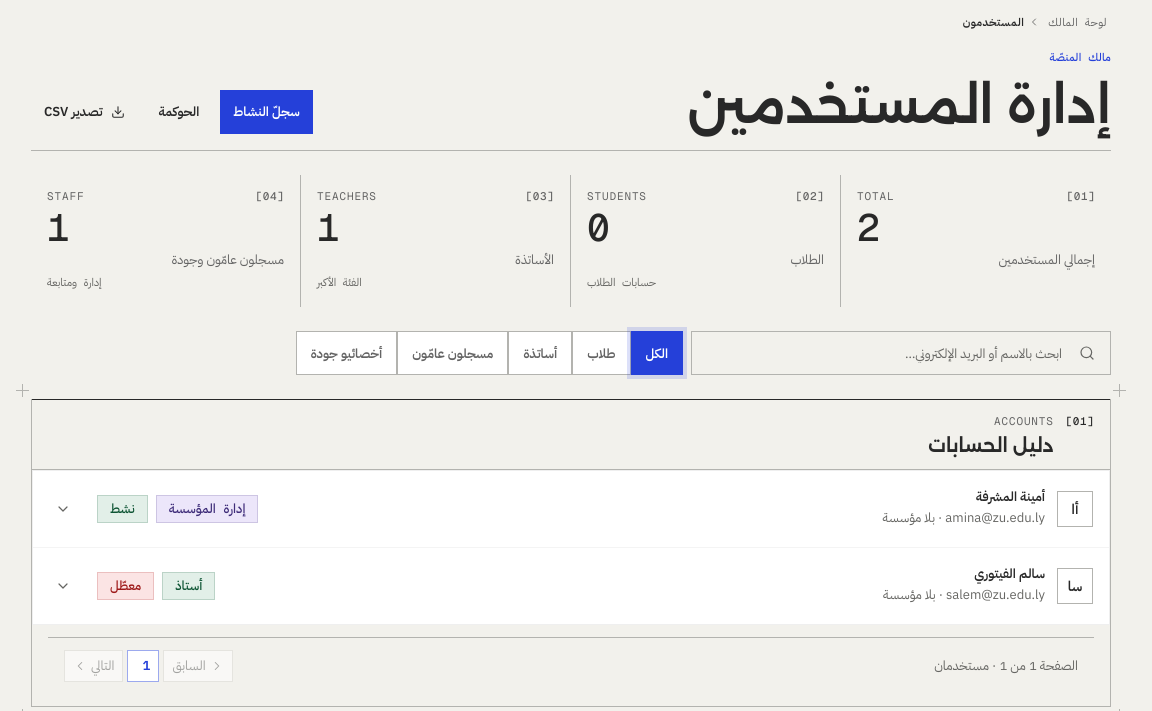
Test case: r305-A8 — the users directory separates high-impact verbs (visual only) › the SUSPENSION verb (active account → disable) renders .r305ao-btn-danger
The width and height of the screenshot is (1152, 711).
Expected: the text "أمينة المشرفة" is shown, [976,487,1045,506]
Click the button named "إجراءات أمينة المشرفة". click: [63, 509]
box: [41,487,85,531]
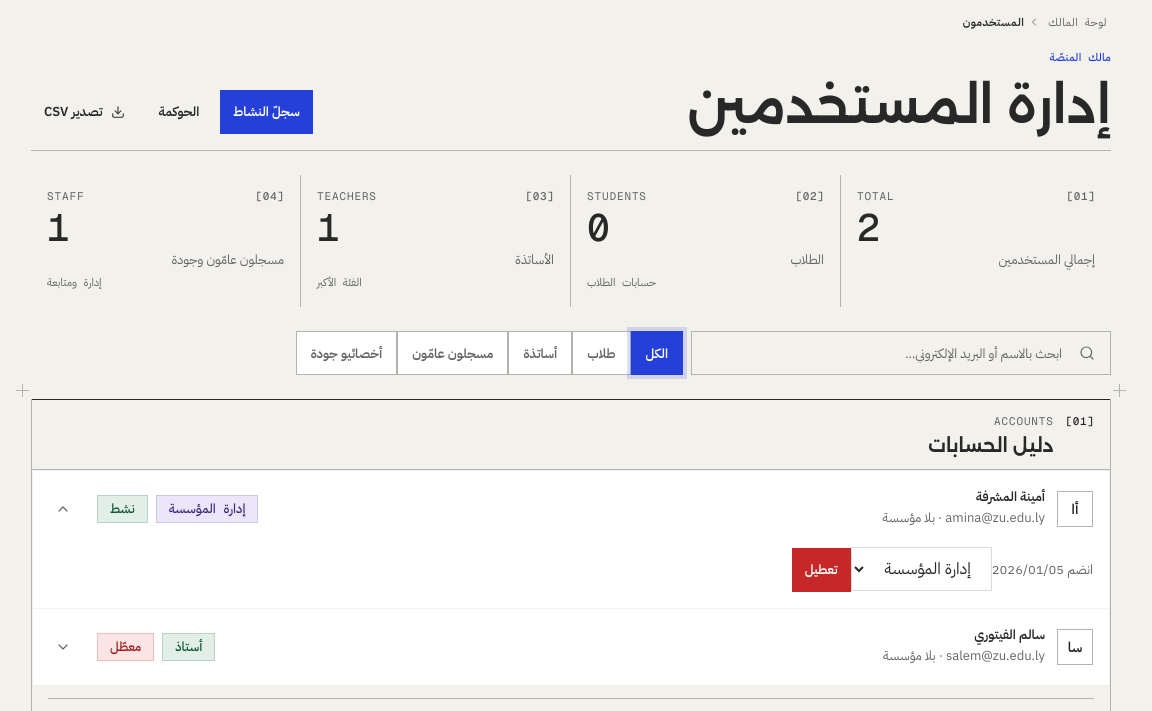
Expected: the button "تعطيل" is shown, [792,548,851,592]
